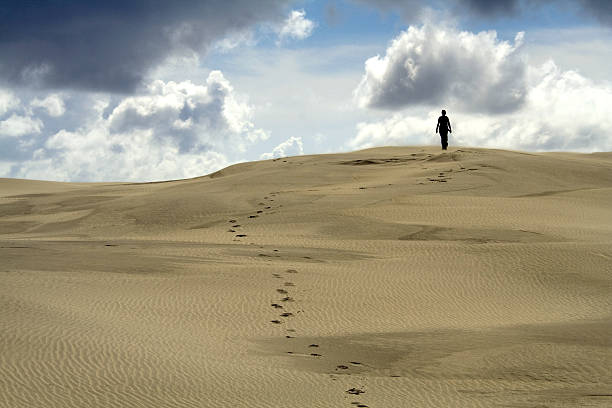human_foot_print: (270, 280, 327, 363), (284, 329, 325, 361), (426, 163, 479, 181), (286, 342, 325, 360), (288, 342, 324, 360), (286, 343, 324, 360), (271, 281, 294, 308), (286, 343, 323, 357), (227, 218, 246, 241), (335, 361, 362, 374), (427, 169, 452, 182), (276, 288, 293, 301), (276, 288, 292, 301), (336, 361, 362, 369), (227, 218, 241, 232), (276, 288, 291, 301), (257, 249, 281, 257), (228, 218, 241, 232), (345, 386, 365, 395), (344, 385, 364, 394), (437, 169, 452, 181), (228, 218, 241, 231), (345, 387, 365, 395), (228, 219, 240, 232), (264, 194, 274, 209), (428, 173, 446, 181), (247, 209, 263, 218), (228, 219, 240, 231), (248, 209, 263, 218), (346, 387, 364, 394), (285, 327, 296, 338), (303, 351, 322, 357), (351, 401, 368, 407), (285, 328, 295, 338), (276, 288, 288, 296), (257, 253, 279, 257), (265, 192, 276, 200), (280, 311, 293, 317), (280, 296, 293, 301), (280, 312, 292, 317), (276, 288, 287, 293), (271, 303, 282, 308), (428, 179, 446, 182), (280, 312, 293, 316), (285, 269, 297, 273), (227, 226, 235, 232), (310, 352, 322, 356), (336, 365, 348, 369), (272, 273, 281, 278), (270, 319, 281, 323), (350, 361, 361, 365), (284, 282, 294, 286), (308, 343, 318, 347), (285, 334, 294, 338), (286, 328, 295, 332), (459, 164, 465, 170), (437, 172, 444, 177), (389, 374, 400, 377), (235, 234, 246, 237), (310, 353, 321, 356), (227, 228, 235, 232), (302, 256, 312, 259), (256, 210, 263, 214), (248, 215, 257, 218), (232, 224, 240, 227), (228, 219, 236, 222), (3, 246, 26, 247), (467, 168, 478, 170), (417, 181, 424, 184), (359, 186, 366, 189), (258, 202, 264, 205), (263, 196, 269, 199), (264, 206, 271, 208), (286, 351, 293, 353), (263, 196, 267, 199), (273, 249, 278, 251), (269, 199, 273, 200)
